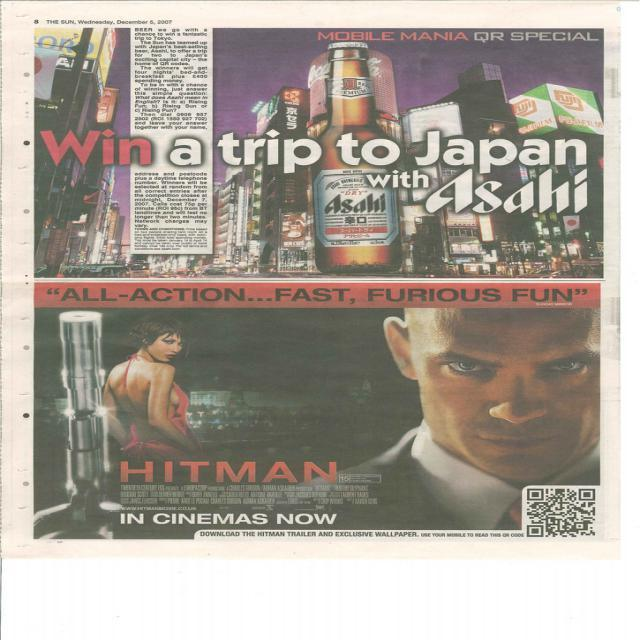qrcode: (528, 490, 595, 537)
